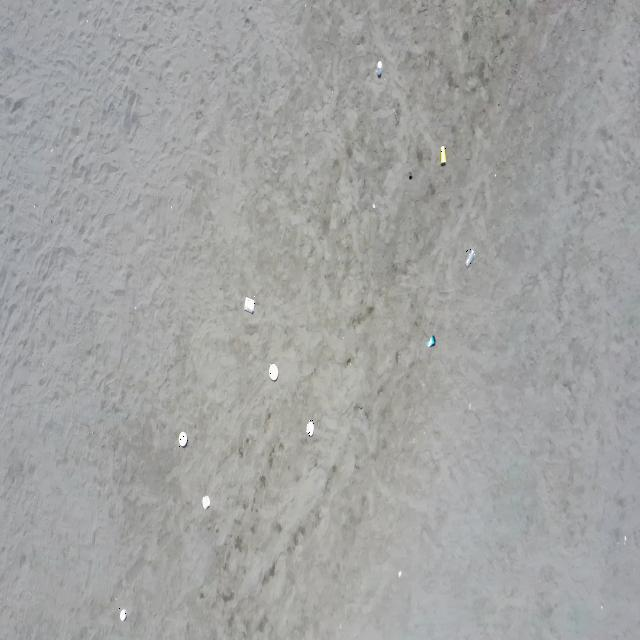take-away-containers: (244, 296, 255, 314), (178, 430, 188, 448), (269, 363, 278, 381), (306, 420, 314, 437), (202, 495, 210, 510), (119, 608, 127, 622)
takeaway-cup: (464, 248, 476, 268), (426, 335, 436, 347), (440, 145, 446, 165), (377, 60, 382, 76)
